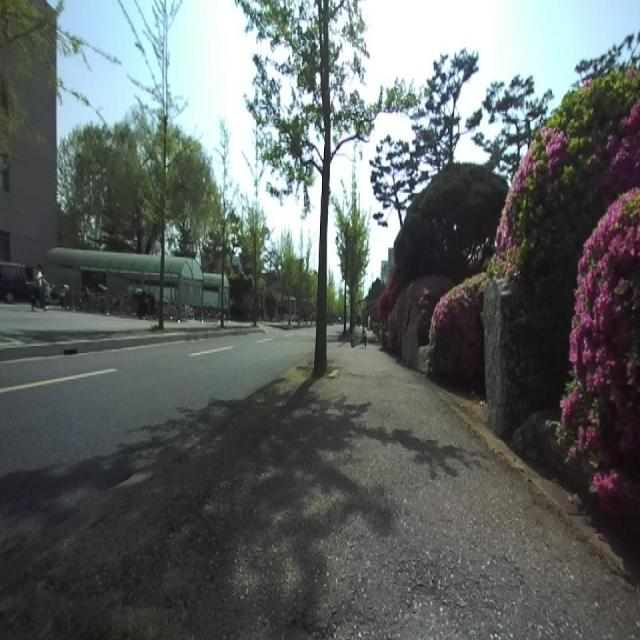sidewalk: (0, 343, 640, 639), (0, 302, 158, 344), (165, 323, 219, 332), (224, 323, 249, 329)
